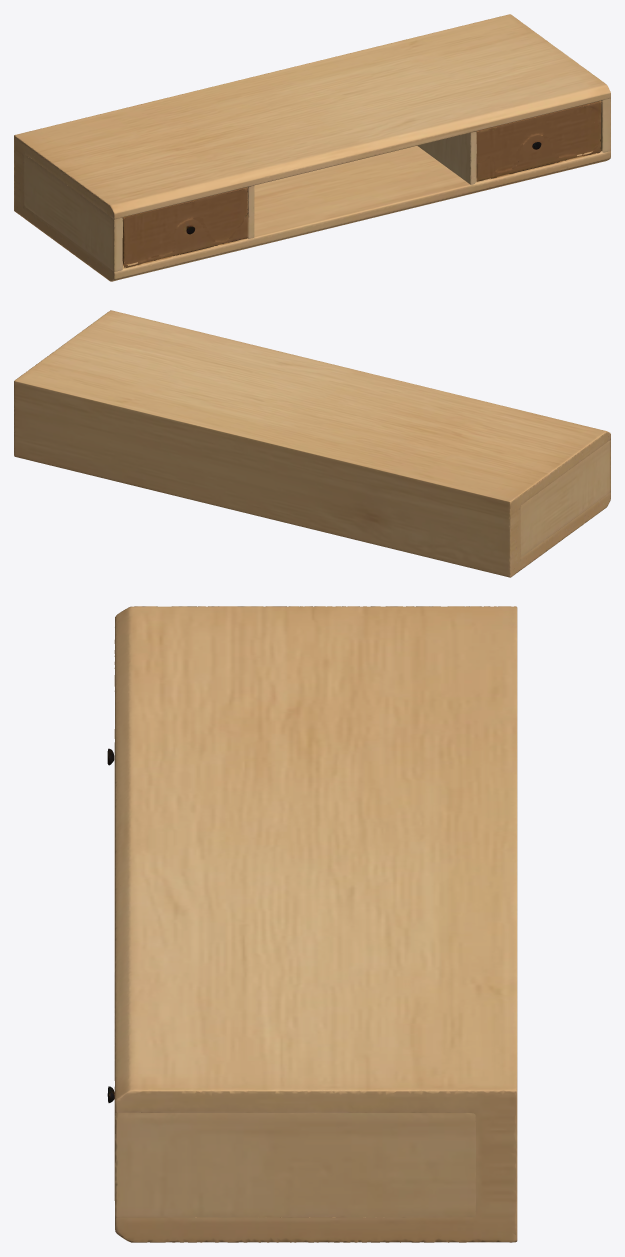
Rendered from front_demarcation_steps.raw.glb.
3 views of the same model, one above another, from view 1: azimuth 30°, elevation 25°; view 2: azimuth 150°, elevation 25°; view 3: azimuth 270°, elevation 25° (orthographic). The views are drawn at different scales.
Visible parts, largest first — view 1: world; view 2: world; view 3: world.
Part boxes in pixels (x1,y1,x2,y2): world: (14, 14, 610, 281); world: (14, 310, 610, 577); world: (107, 606, 517, 1242).
Size of the model in its own units: 1 by 0.1473 by 0.3572.
Materials: 1 (1 with a texture image).
